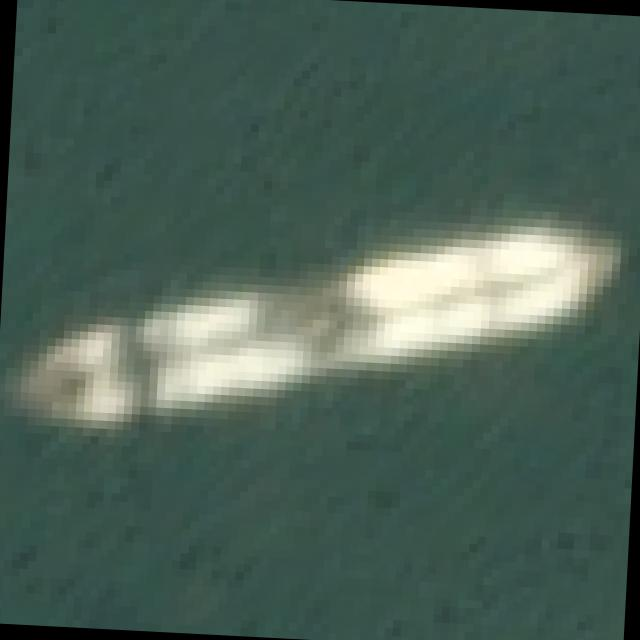ship: (1, 160, 640, 526)
